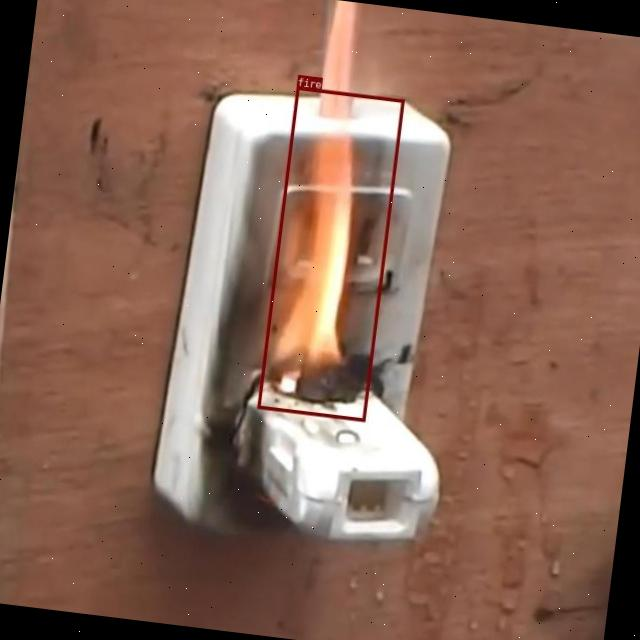fire: (256, 86, 404, 420)
